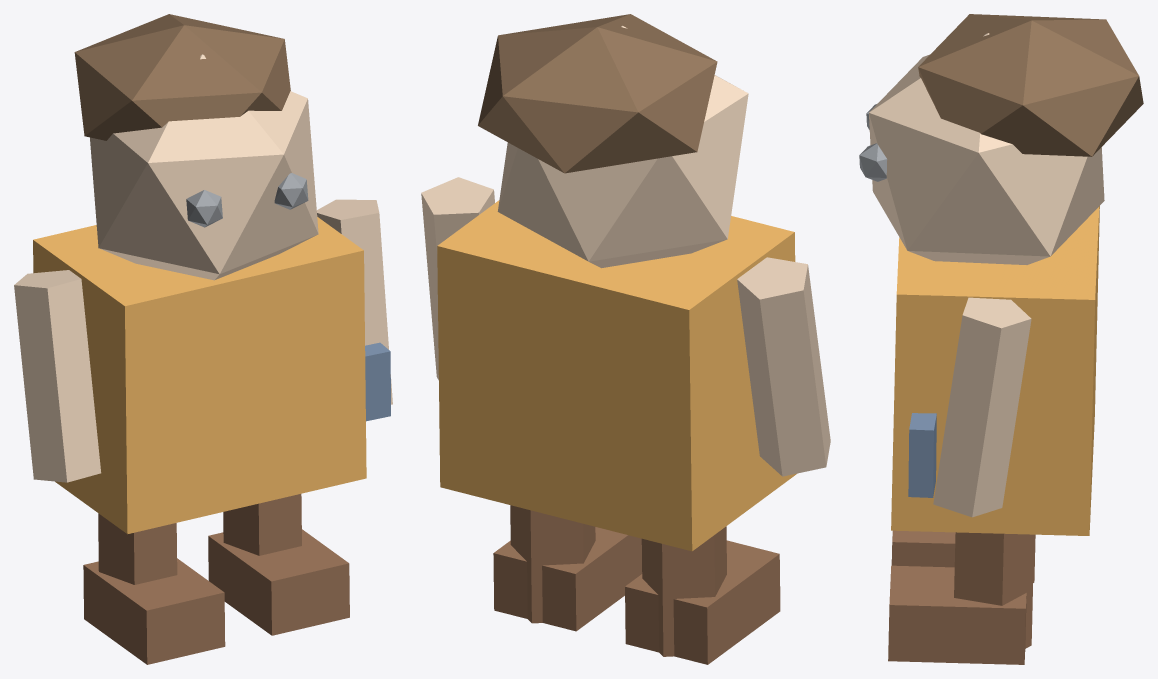
The model's file is npcpose_villager_idle_08.glb.
3 renders of one model, left to right at view 1: azimuth 30°, elevation 25°; view 2: azimuth 150°, elevation 25°; view 3: azimuth 270°, elevation 25°, orthographic. The views are drawn at different scales.
Visible parts, largest first — view 1: npcpose; view 2: npcpose; view 3: npcpose.
Boxes of the visible parts, x1=… form: npcpose: x1=14, y1=14, x2=392, y2=664; npcpose: x1=421, y1=14, x2=830, y2=664; npcpose: x1=859, y1=14, x2=1143, y2=664.
Size of the model in its own units: 0.6989 by 1.06 by 0.4582.
